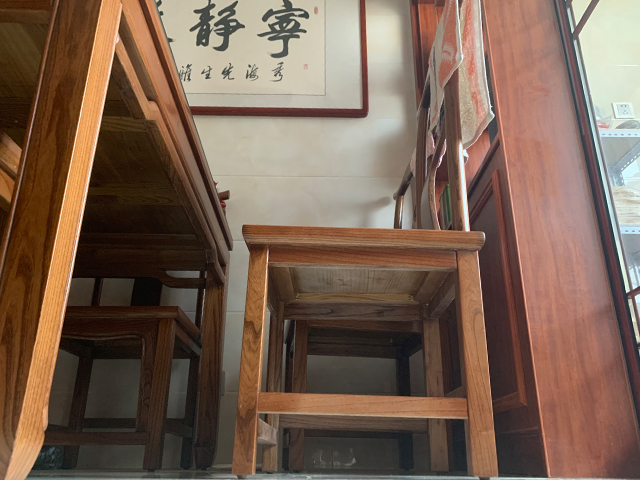cabinet: (408, 1, 640, 480)
stool: (232, 1, 500, 480), (41, 174, 234, 474)
table: (1, 2, 235, 475)
